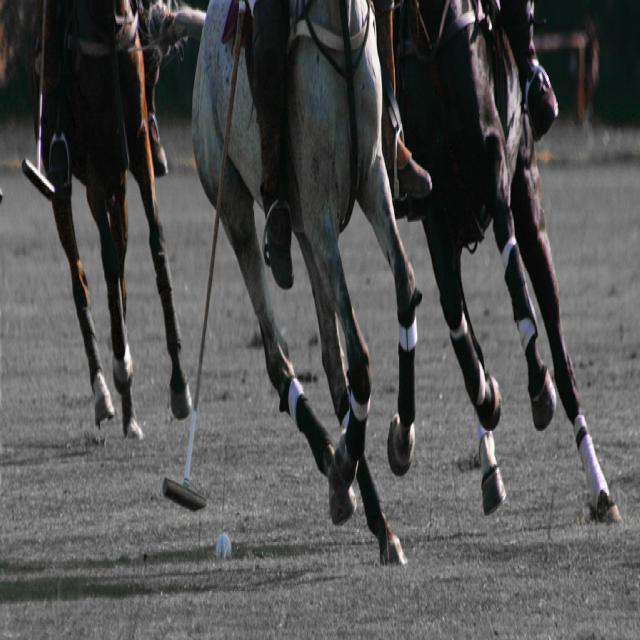Horse: (28, 0, 622, 567)
